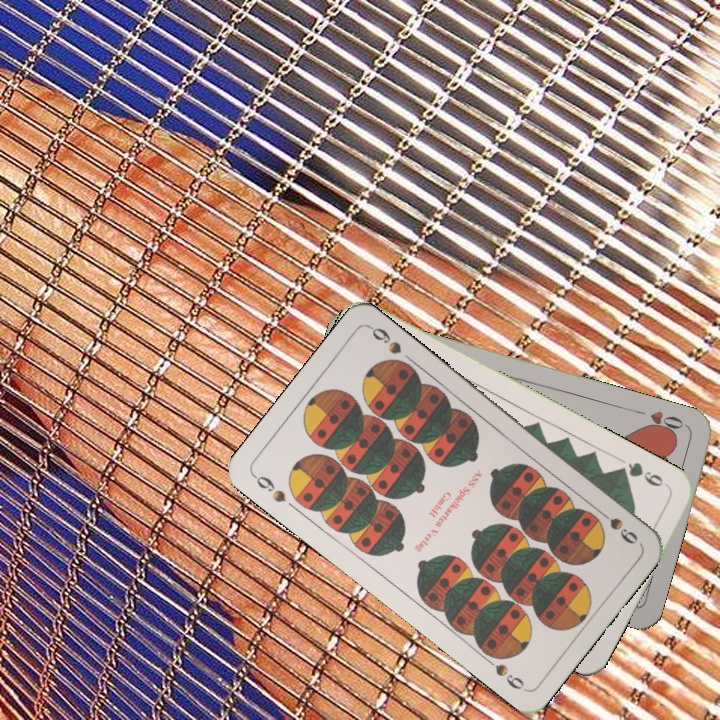G9: (614, 458, 672, 491)
HO: (630, 406, 689, 438)
S9: (592, 504, 641, 547), (249, 470, 289, 505)
